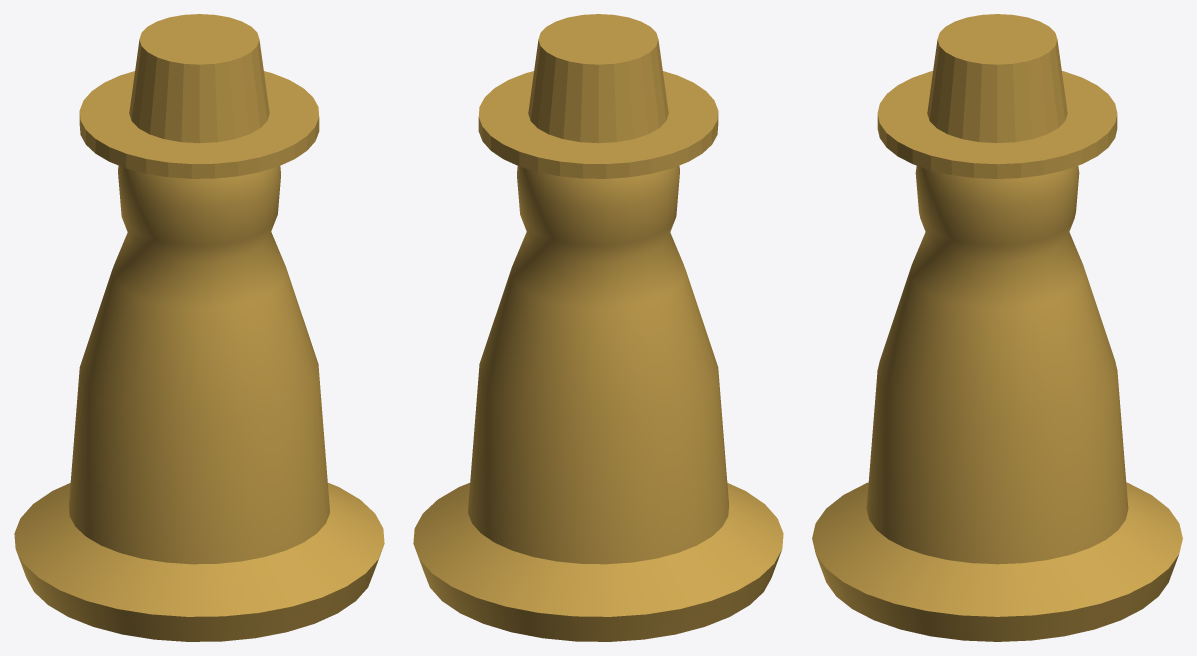
The model's file is pawn.fbx.
3 renders of one model, left to right at view 1: azimuth 30°, elevation 25°; view 2: azimuth 150°, elevation 25°; view 3: azimuth 270°, elevation 25°, orthographic.
Visible parts, largest first — view 1: body, crown, brim; view 2: body, crown, brim; view 3: body, crown, brim.
Boxes of the visible parts, bbox=[...] form: body: bbox=[14, 166, 384, 641]; crown: bbox=[129, 14, 269, 143]; brim: bbox=[79, 71, 319, 178]; body: bbox=[413, 166, 783, 641]; crown: bbox=[528, 14, 668, 143]; brim: bbox=[478, 71, 718, 178]; body: bbox=[812, 166, 1182, 641]; crown: bbox=[927, 14, 1067, 142]; brim: bbox=[877, 71, 1117, 178].
Size of the model in its own units: 0.034 by 0.0535 by 0.034.
